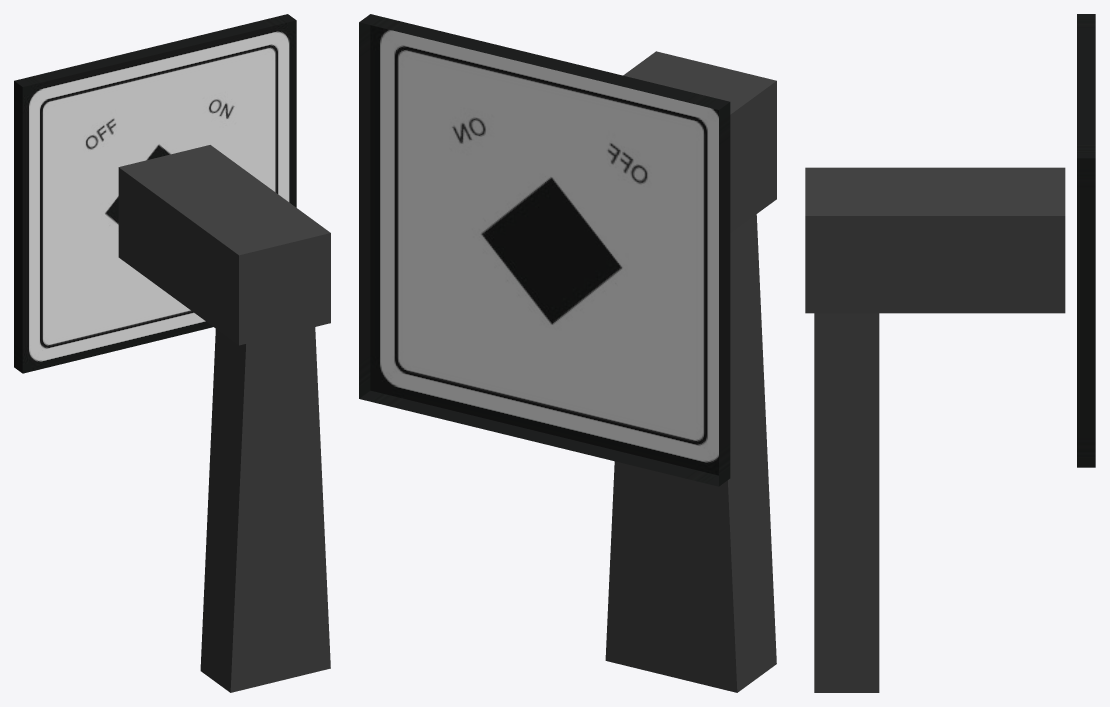
Rendered from CONTREV2.gltf.
The picture shows the model from 3 angles, left to right: view 1: azimuth 30°, elevation 25°; view 2: azimuth 150°, elevation 25°; view 3: azimuth 270°, elevation 25°; orthographic projection. The views are drawn at different scales.
Visible parts, largest first — view 1: Rectangle063, Rectangle062; view 2: Rectangle062, Rectangle063; view 3: Rectangle063, Rectangle062.
Part boxes in pixels (left/top/right/bottom): Rectangle063: left=118, top=145, right=330, bottom=692; Rectangle062: left=14, top=14, right=296, bottom=373; Rectangle062: left=359, top=14, right=730, bottom=486; Rectangle063: left=605, top=51, right=776, bottom=692; Rectangle063: left=805, top=167, right=1065, bottom=692; Rectangle062: left=1077, top=14, right=1095, bottom=467.
Size of the model in its own units: 0.062 by 0.1164 by 0.0528.
Materials: 2 (1 with a texture image).
